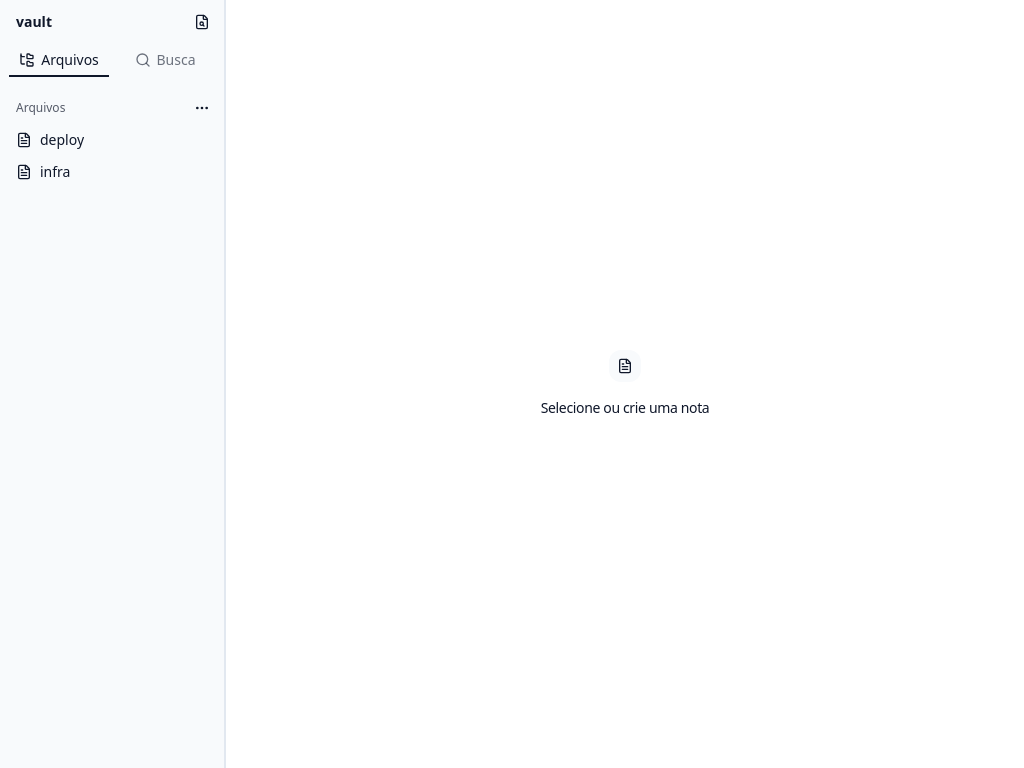
Test case: painel de backlinks no workspace › Ctrl+Shift+B esconde e mostra o painel
Expected: the navigation bar named "Arquivos do vault" is shown, top-left (8, 124), bottom-right (216, 188)
Click the button "deploy" at (112, 140), box top-left (8, 124), bottom-right (216, 156)
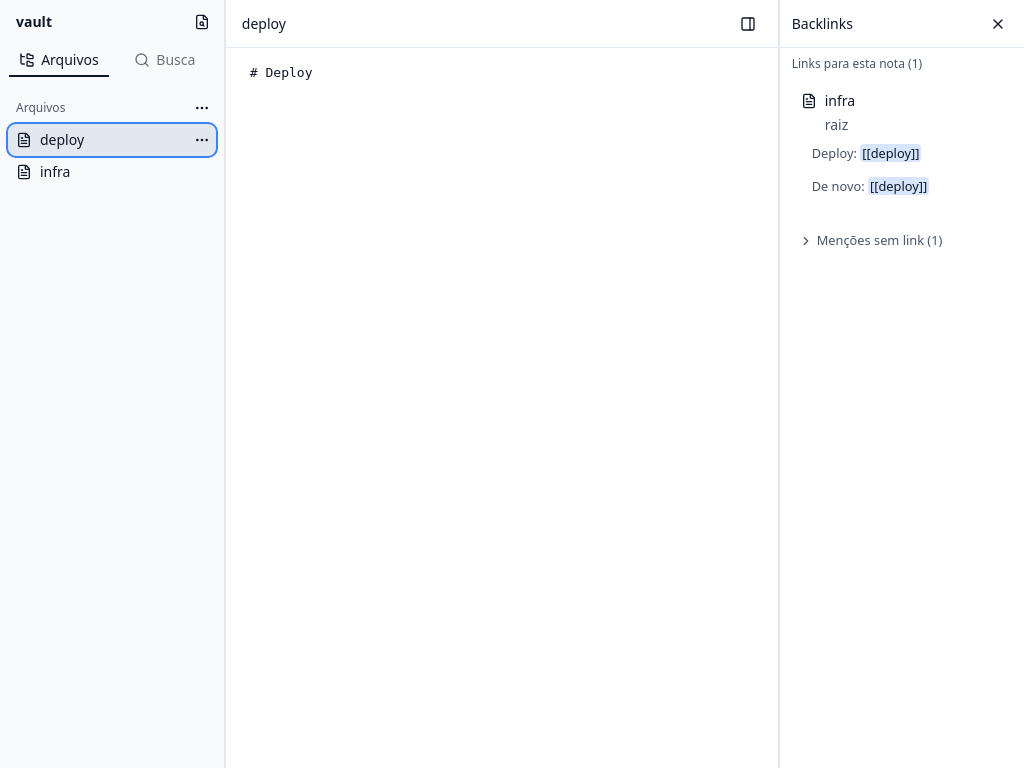
Expected: the element "deploy" is shown, top-left (226, 0), bottom-right (778, 767)
Expected: the element "Backlinks" is shown, top-left (780, 0), bottom-right (1023, 767)
Type keys "{Control>}{Shift>}B{/Shift}{/Control}"
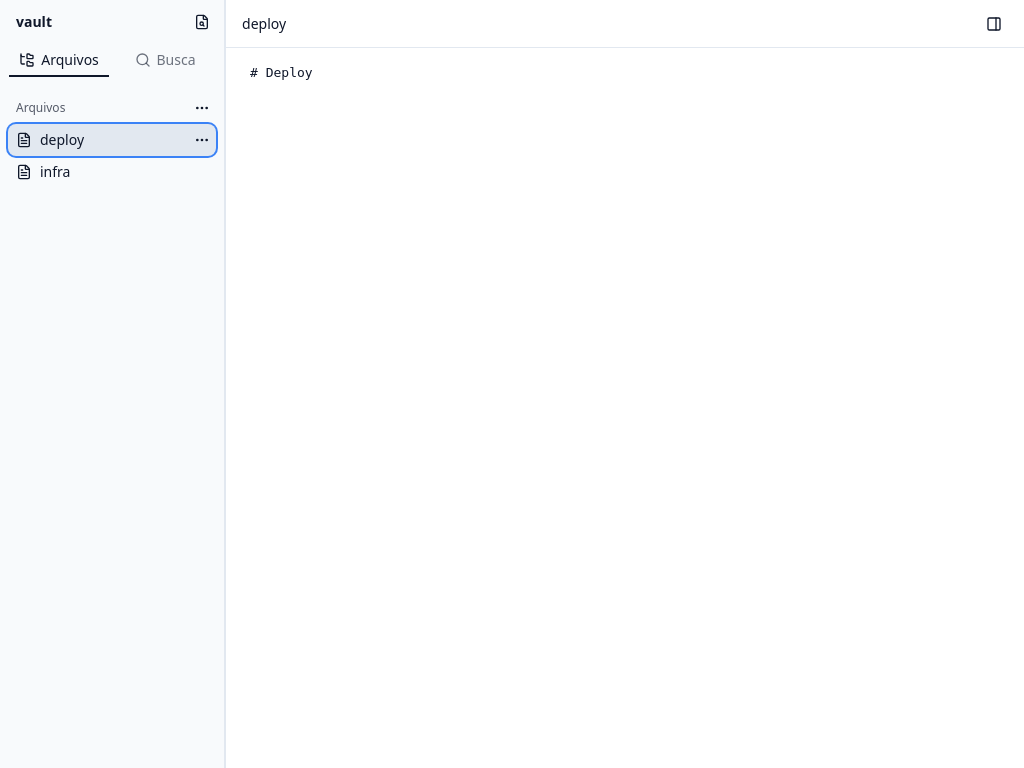
Expected: the heading "Backlinks" is gone
Type keys "{Control>}{Shift>}B{/Shift}{/Control}"
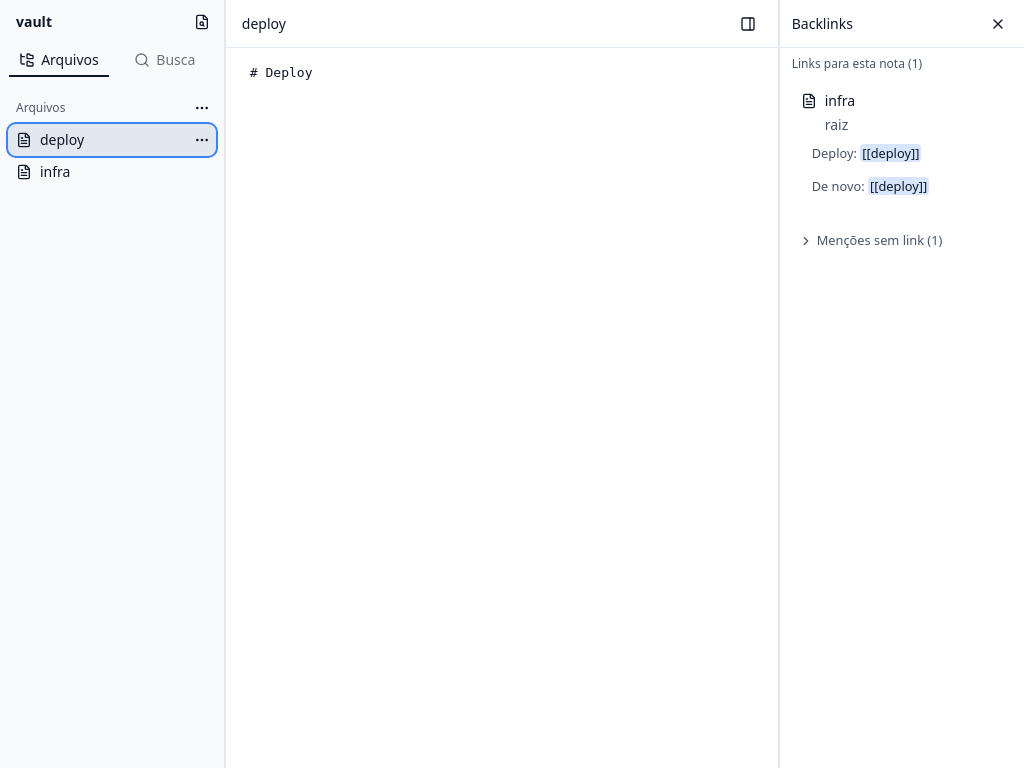
Expected: the element "Backlinks" is shown, top-left (780, 0), bottom-right (1023, 767)
